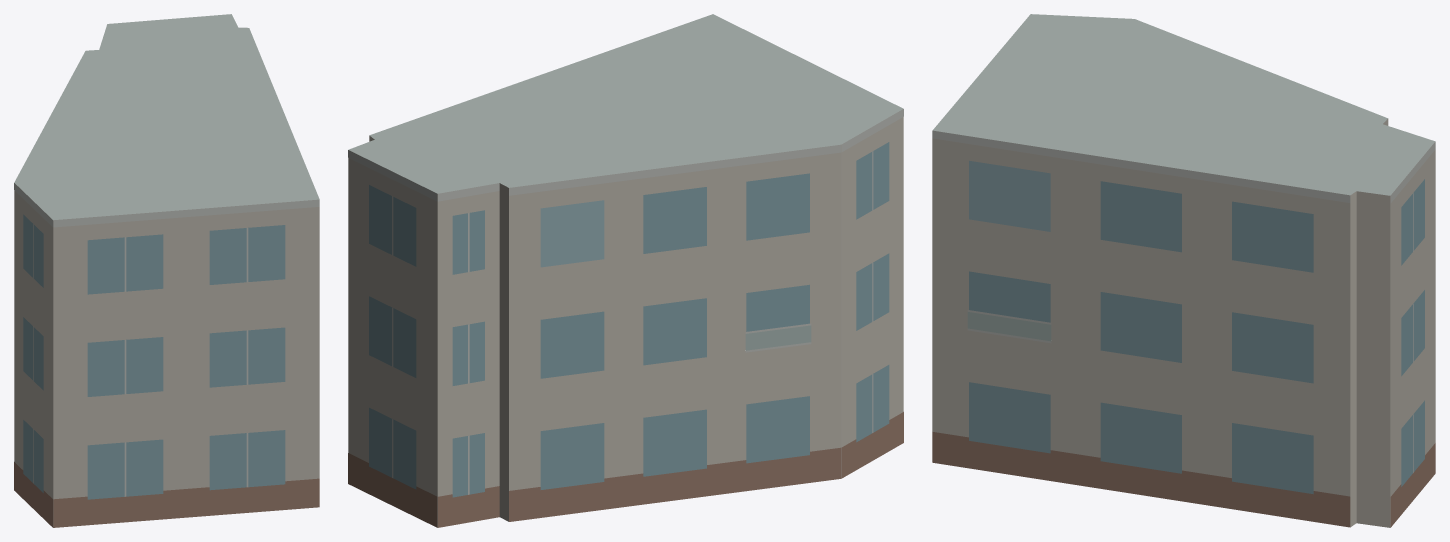
The model's file is survey-upis-33006673.glb.
3 renders of one model, left to right at view 1: azimuth 30°, elevation 25°; view 2: azimuth 150°, elevation 25°; view 3: azimuth 270°, elevation 25°, orthographic. The views are drawn at different scales.
Visible parts, largest first — view 1: survey-upis-33006673.tmp; view 2: survey-upis-33006673.tmp; view 3: survey-upis-33006673.tmp.
Part boxes in pixels (box(x1,y1,x2,y2)): survey-upis-33006673.tmp: box(14, 14, 319, 527); survey-upis-33006673.tmp: box(348, 14, 903, 527); survey-upis-33006673.tmp: box(932, 14, 1435, 527).
Size of the model in its own units: 12.1 by 10.3 by 14.15.
